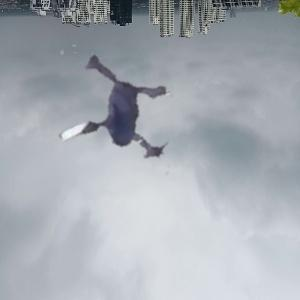drone: (2, 23, 193, 214)
